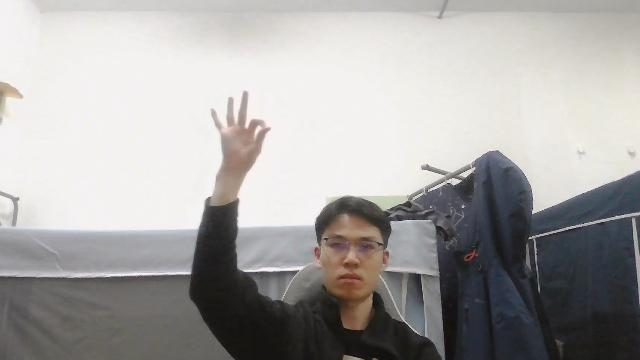ok: (207, 89, 271, 169)
